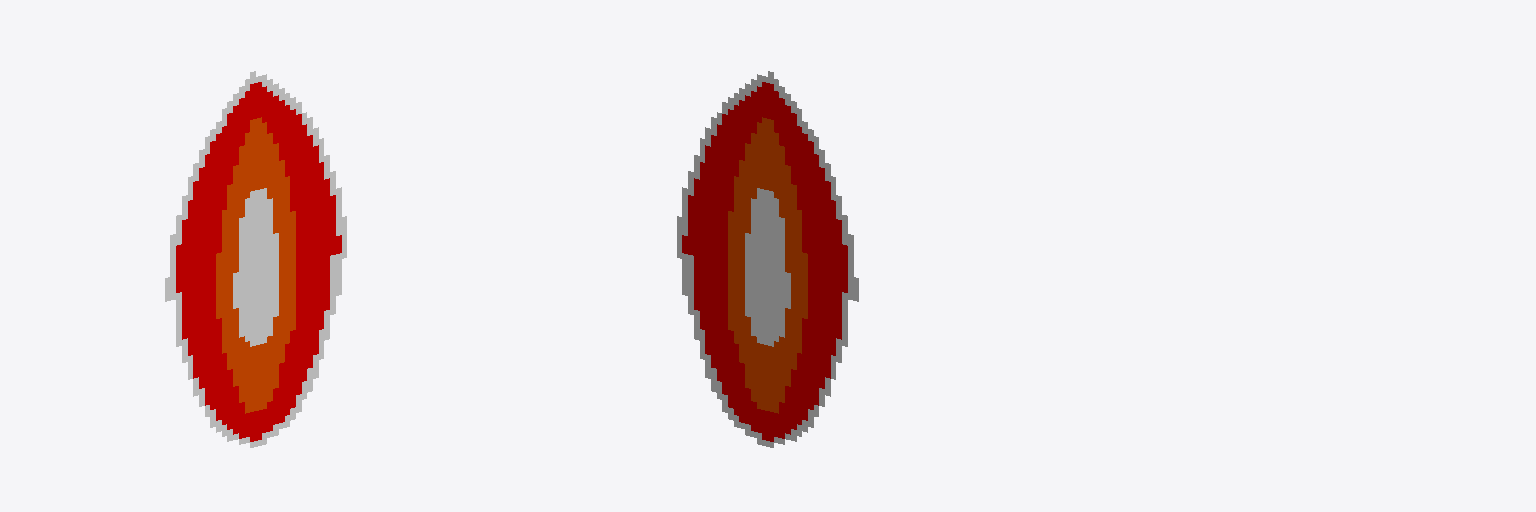
3 renders of one model, left to right at view 1: azimuth 30°, elevation 25°; view 2: azimuth 150°, elevation 25°; view 3: azimuth 270°, elevation 25°, orthographic.
Parts seen in each view (by area): view 1: 平面; view 2: 平面; view 3: none.
Boxes of the visible parts, x1=… form: 平面: x1=165, y1=71, x2=346, y2=447; 平面: x1=677, y1=71, x2=858, y2=447.
Size of the model in its own units: 2 by 4 by 0.
1 materials, 1 textured.